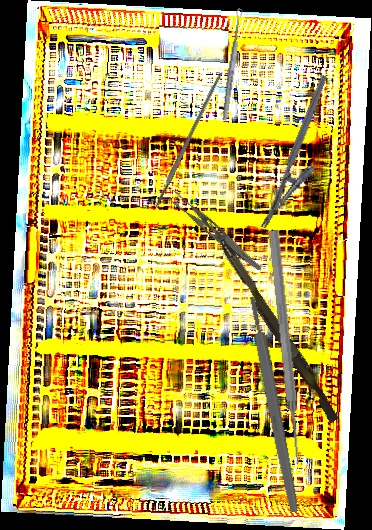Dressing Forceps: (163, 187, 270, 273)
Needle Holder: (259, 74, 349, 238)
Pusher: (199, 220, 345, 424), (265, 229, 306, 466)
Scalpel Handle: (246, 295, 301, 514), (151, 70, 225, 210)
Surgical Spoon: (221, 8, 244, 121)
